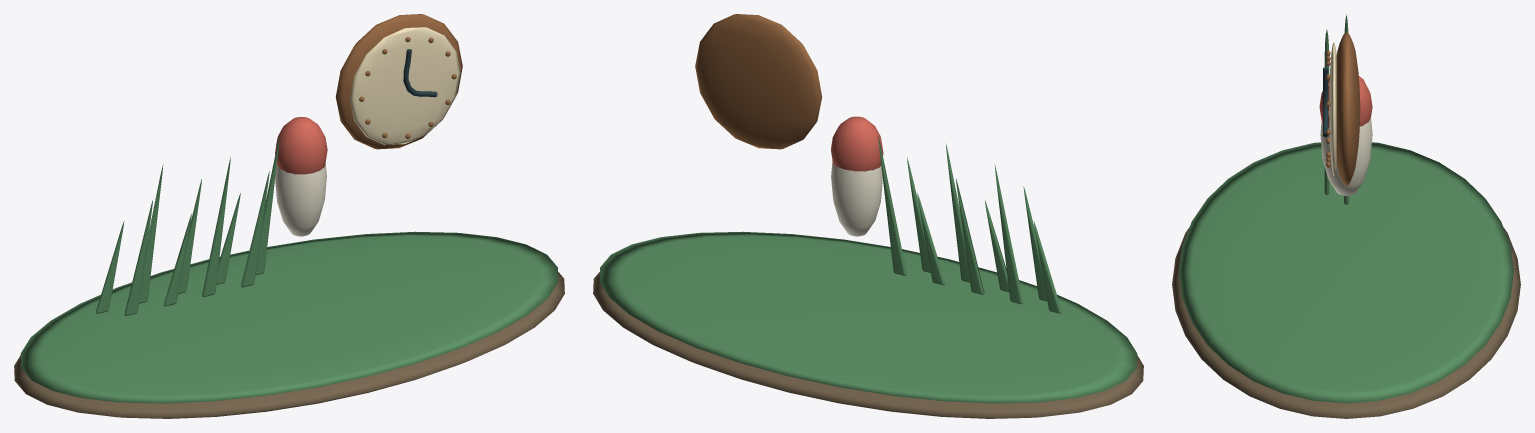
Rendered from herbal-medicine.glb.
The picture shows the model from 3 angles, left to right: view 1: azimuth 30°, elevation 25°; view 2: azimuth 150°, elevation 25°; view 3: azimuth 270°, elevation 25°; orthographic projection. The views are drawn at different scales.
Parts seen in each view (by area): view 1: herbal-medicine_surface_01, herbal-medicine_surface_03, herbal-medicine_surface_00, herbal-medicine_surface_02, herbal-medicine_surface_05, herbal-medicine_surface_06; view 2: herbal-medicine_surface_01, herbal-medicine_surface_02, herbal-medicine_surface_00, herbal-medicine_surface_05, herbal-medicine_surface_06; view 3: herbal-medicine_surface_01, herbal-medicine_surface_00, herbal-medicine_surface_02, herbal-medicine_surface_05, herbal-medicine_surface_03, herbal-medicine_surface_06, herbal-medicine_surface_04.
Part boxes in pixels (bbox=[...]): herbal-medicine_surface_01: bbox=[20, 136, 558, 403]; herbal-medicine_surface_03: bbox=[350, 27, 460, 144]; herbal-medicine_surface_00: bbox=[14, 272, 564, 418]; herbal-medicine_surface_02: bbox=[335, 14, 462, 149]; herbal-medicine_surface_05: bbox=[275, 163, 326, 236]; herbal-medicine_surface_06: bbox=[275, 117, 327, 174]; herbal-medicine_surface_01: bbox=[599, 136, 1137, 403]; herbal-medicine_surface_02: bbox=[695, 14, 822, 149]; herbal-medicine_surface_00: bbox=[593, 272, 1143, 418]; herbal-medicine_surface_05: bbox=[831, 160, 882, 236]; herbal-medicine_surface_06: bbox=[831, 116, 883, 171]; herbal-medicine_surface_01: bbox=[1179, 14, 1513, 403]; herbal-medicine_surface_00: bbox=[1172, 227, 1520, 418]; herbal-medicine_surface_02: bbox=[1326, 32, 1360, 185]; herbal-medicine_surface_05: bbox=[1320, 118, 1372, 195]; herbal-medicine_surface_03: bbox=[1329, 42, 1336, 175]; herbal-medicine_surface_06: bbox=[1319, 76, 1372, 127]; herbal-medicine_surface_04: bbox=[1323, 67, 1328, 137].
Size of the model in its own units: 4.56 by 2.51 by 2.5.
